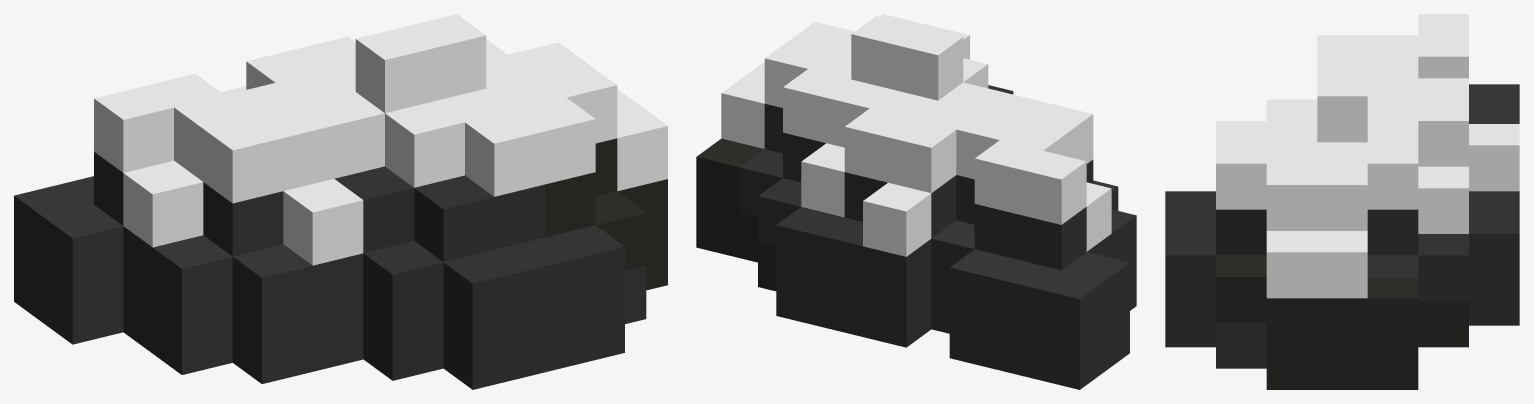
Rendered from SmallStoneSnow.obj.
3 views of the same model, side by side, from view 1: azimuth 30°, elevation 25°; view 2: azimuth 150°, elevation 25°; view 3: azimuth 270°, elevation 25° (orthographic). The views are drawn at different scales.
Bounding box in the file's own units: 1 × 0.5 × 0.7.
Materials: 1 (1 with a texture image).
